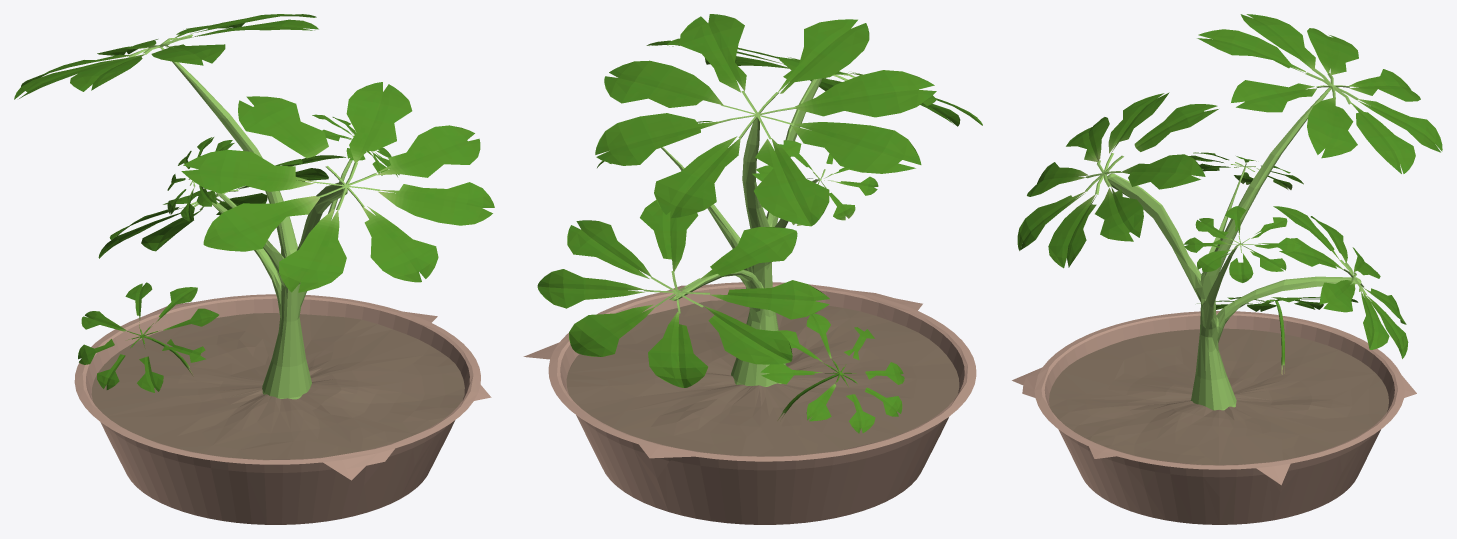
The model's file is sh-bsby-decorative-plant.glb.
3 views of the same model, side by side, from view 1: azimuth 30°, elevation 25°; view 2: azimuth 150°, elevation 25°; view 3: azimuth 270°, elevation 25° (orthographic). The views are drawn at different scales.
Visible parts, largest first — view 1: Plane.066_Plane.096, Circle.006, Circle, Plane.059_Plane.089, Plane.051_Plane.081; view 2: Plane.066_Plane.096, Circle.006, Circle, Plane.059_Plane.089, Plane.051_Plane.081; view 3: Circle.006, Plane.066_Plane.096, Circle, Plane.059_Plane.089, Plane.051_Plane.081.
Part boxes in pixels (box(x1,y1,x2,y2)): Plane.066_Plane.096: box(14, 14, 494, 392); Circle.006: box(91, 313, 464, 459); Circle: box(74, 294, 491, 524); Plane.059_Plane.089: box(160, 47, 352, 399); Plane.051_Plane.081: box(127, 34, 380, 210); Plane.066_Plane.096: box(537, 14, 982, 433); Circle.006: box(566, 300, 959, 456); Circle: box(523, 282, 976, 524); Plane.059_Plane.089: box(643, 78, 833, 386); Plane.051_Plane.081: box(720, 64, 855, 139); Circle.006: box(1049, 328, 1388, 465); Plane.066_Plane.096: box(1017, 14, 1442, 374); Circle: box(1012, 311, 1416, 524); Plane.059_Plane.089: box(1107, 87, 1366, 410); Plane.051_Plane.081: box(1085, 68, 1358, 252).
Size of the model in its own units: 0.9787 by 1 by 0.9906.
4 materials, 1 textured.
